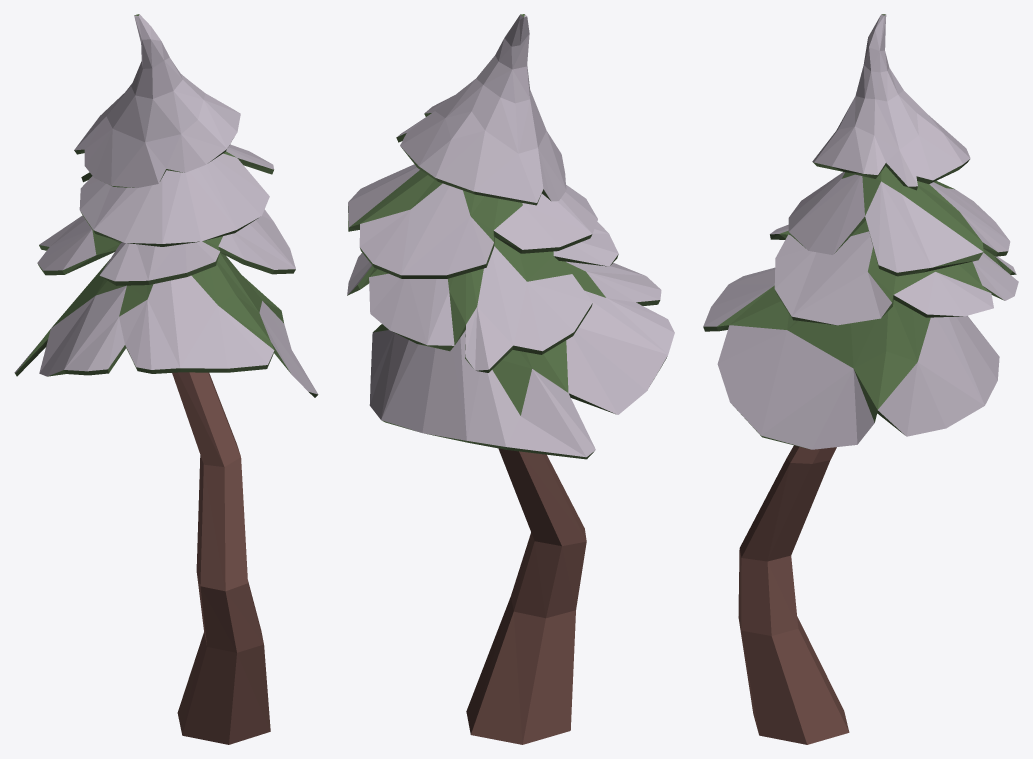
Rendered from PineTree_Snow_4.lod1.glb.
The picture shows the model from 3 angles, left to right: view 1: azimuth 30°, elevation 25°; view 2: azimuth 150°, elevation 25°; view 3: azimuth 270°, elevation 25°; orthographic projection. The views are drawn at different scales.
Visible parts, largest first — view 1: PineTree_Snow_4; view 2: PineTree_Snow_4; view 3: PineTree_Snow_4.
Part boxes in pixels (bbox=[...]): PineTree_Snow_4: bbox=[14, 14, 318, 744]; PineTree_Snow_4: bbox=[347, 14, 674, 744]; PineTree_Snow_4: bbox=[703, 14, 1018, 744].
Size of the model in its own units: 1.25 by 3.34 by 1.39.
